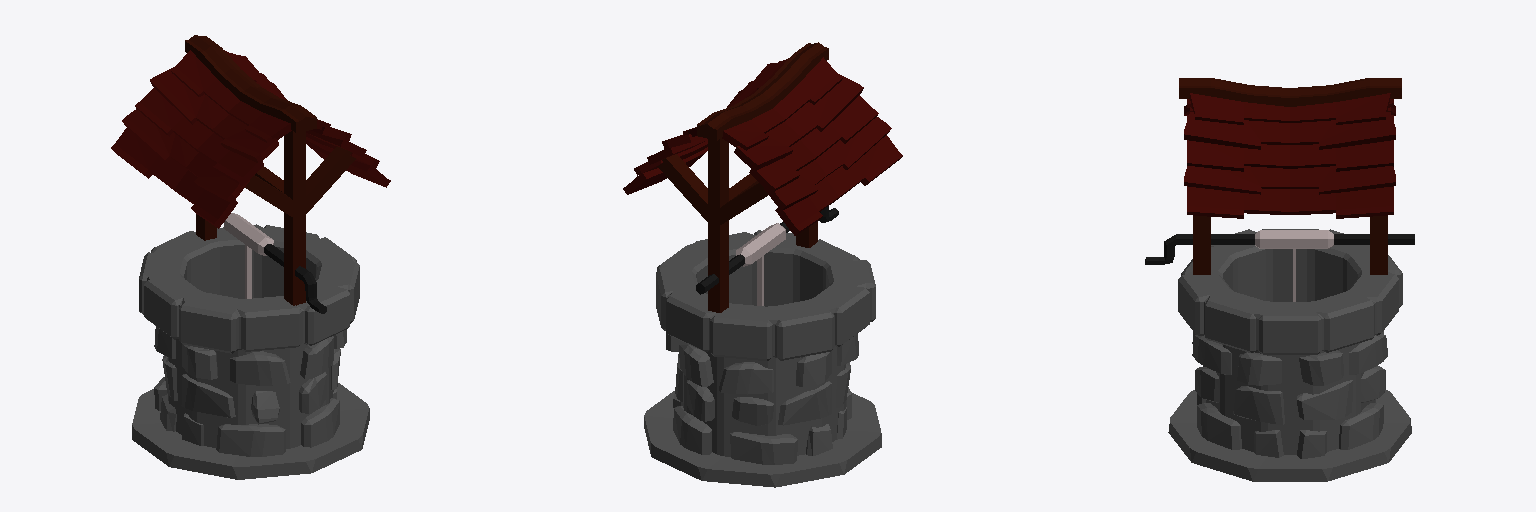
File: Well.obj
3 views of the same model, side by side, from view 1: azimuth 30°, elevation 25°; view 2: azimuth 150°, elevation 25°; view 3: azimuth 270°, elevation 25° (orthographic).
Parts seen in each view (by area): view 1: Well_Cylinder.002; view 2: Well_Cylinder.002; view 3: Well_Cylinder.002.
Part boxes in pixels (x1,y1,x2,y2): Well_Cylinder.002: (111, 35, 390, 479); Well_Cylinder.002: (623, 42, 902, 487); Well_Cylinder.002: (1145, 78, 1414, 481).
Bounding box in the file's own units: 1.28 × 2.15 × 1.49.